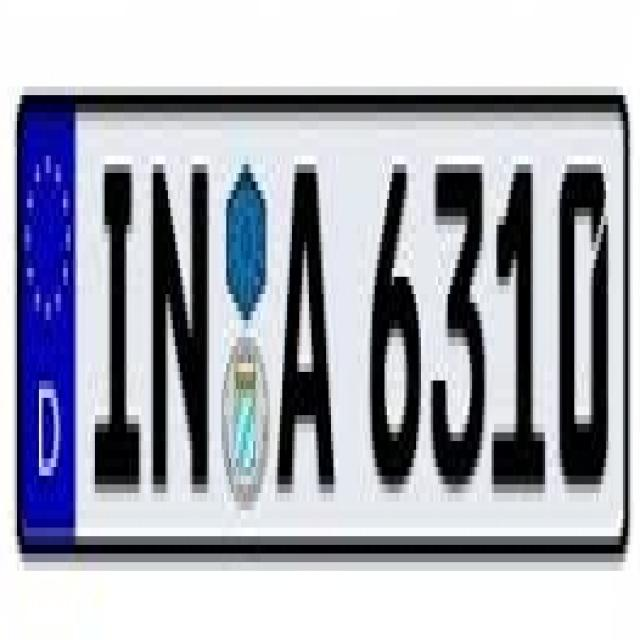Allemagne: (15, 100, 76, 548)
EU: (17, 94, 627, 552)
